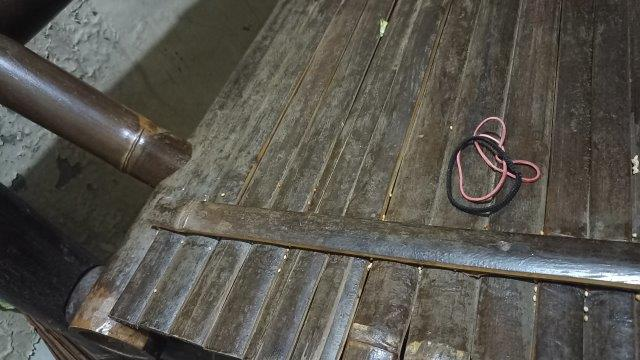karet: (445, 116, 541, 214)
